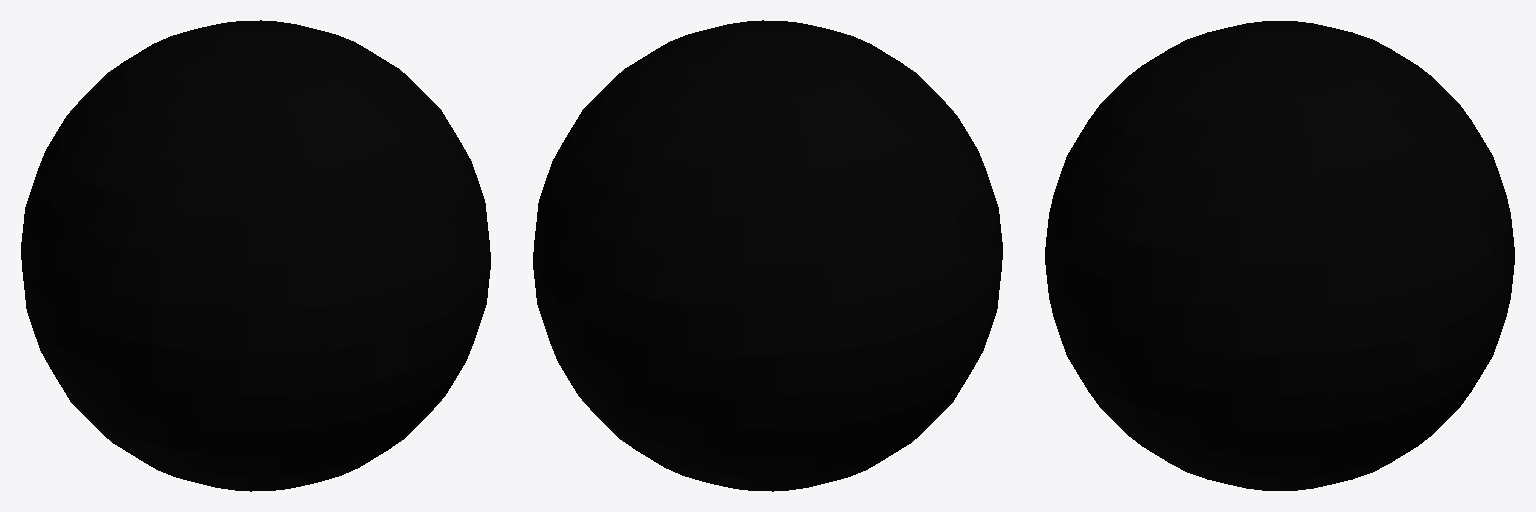
The robot description file, URDF, robot "squareball":
<?xml version="1.0"?>
<robot name="squareball">
  <material name="blockmat">
    <color rgba="0.05 0.05 0.05 1"/>
  </material>

  <link name="origin">
    <contact>
      <lateral_friction value="1.0"/>
      <spinning_friction value=".0001"/>
    </contact>
    <inertial>
      <origin rpy="0 0 0" xyz="0 0 0"/>
      <mass value="0.01"/>
      <inertia ixx="0" ixy="0" ixz="0" iyy="0" iyz="0" izz="0"/>
    </inertial>
    <visual>
      <origin rpy="0 0 0" xyz="0.0 0.0 0.0"/>
      <geometry>
        <sphere radius="0.015"/>
      </geometry>
      <material name="blockmat"/>
    </visual>
    <collision>
      <origin rpy="0 0 0" xyz="0.0 0.0 0.0"/>
      <geometry>
        <box size="0.03 0.01 0.01"/>
      </geometry>
    </collision>
    <collision>
      <origin rpy="0 0 0" xyz="0.0 0.0 0.0"/>
      <geometry>
        <box size="0.01 0.03 0.01"/>
      </geometry>
    </collision>
    <collision>
      <origin rpy="0 0 0" xyz="0.0 0.0 0.0"/>
      <geometry>
        <box size="0.01 0.01 0.03"/>
      </geometry>
    </collision>
  </link>

  

  
</robot>

--- Facts derived from the render (not from the file) ---
Views: 3 orthographic renders of the robot side by side, from view 1: azimuth 30°, elevation 25°; view 2: azimuth 150°, elevation 25°; view 3: azimuth 270°, elevation 25°.
Model squareball with 1 links and 0 joints (none), rooted at origin, posed every joint at zero.
Visible links, largest first — view 1: origin; view 2: origin; view 3: origin.
Boxes of the visible links, bbox=[...] form: origin: bbox=[21, 20, 490, 491]; origin: bbox=[533, 20, 1002, 491]; origin: bbox=[1045, 21, 1514, 490].
Size in the robot's own frame: 0.03 by 0.03 by 0.03 metres.
Geometry: primitives only (box / cylinder / sphere), no mesh files.
